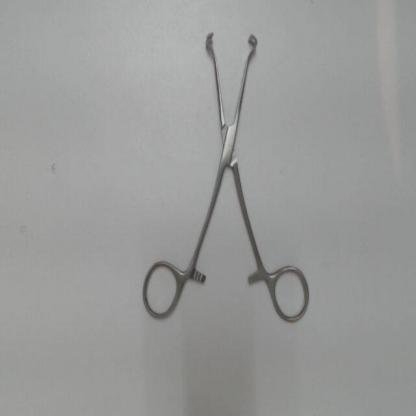Babcock Tissue Forceps: (138, 23, 318, 330)
